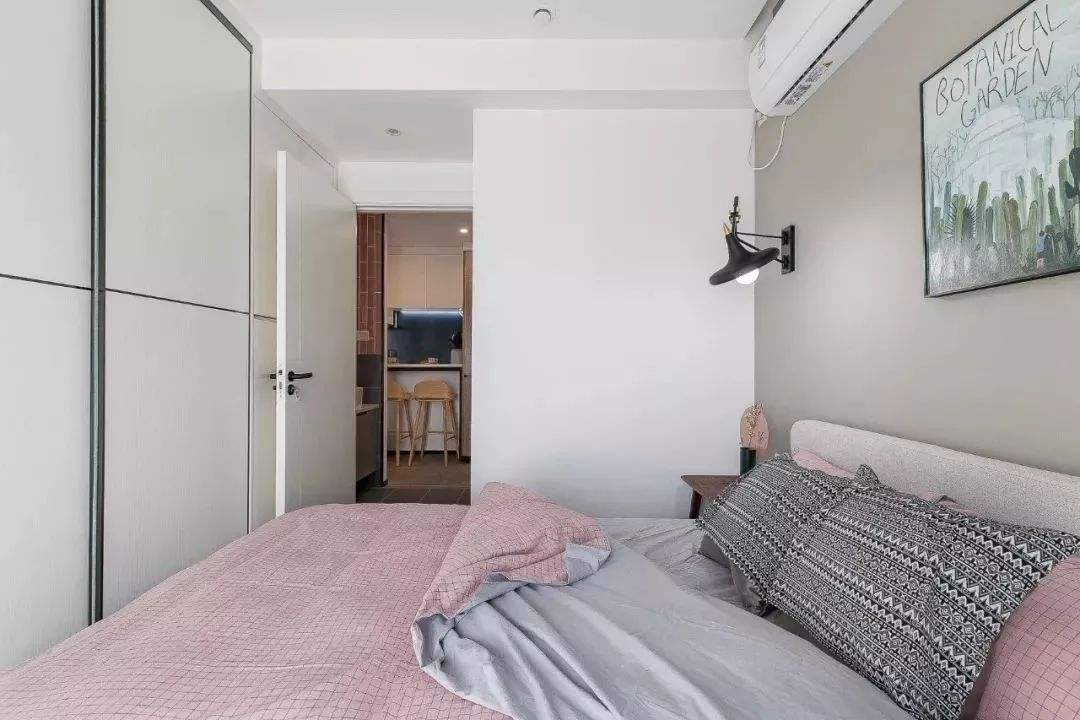床: (41, 491, 1080, 713)
枕头: (695, 473, 1060, 700)
灯: (710, 198, 801, 297), (380, 123, 402, 142)
